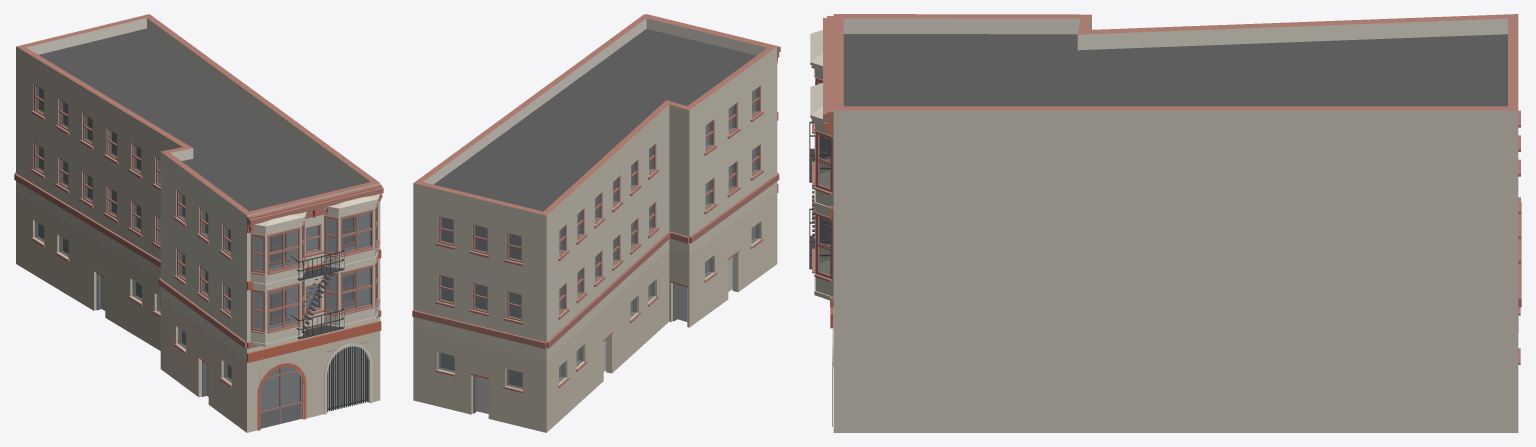
The model's file is exterior.glb.
3 views of the same model, side by side, from view 1: azimuth 30°, elevation 25°; view 2: azimuth 150°, elevation 25°; view 3: azimuth 270°, elevation 25° (orthographic). The views are drawn at different scales.
Visible parts, largest first — view 1: shell, roof, bay-glazing-hyb, shadow-proxy, glazing, bay-windows-hyb, trim, storefront, frames, front-dressing, fire-escape, hyC-arches-3; view 2: shell, roof, glazing, trim, shadow-proxy, frames, storefront; view 3: shell, roof, bay-windows-hyb, bay-glazing-hyb, trim.
Part boxes in pixels (<box>): shell: <box>16,14,380,432</box>; roof: <box>39,28,359,211</box>; bay-glazing-hyb: <box>250,202,380,333</box>; shadow-proxy: <box>38,88,369,410</box>; glazing: <box>35,86,352,411</box>; bay-windows-hyb: <box>250,194,379,347</box>; trim: <box>14,110,383,387</box>; storefront: <box>93,269,367,428</box>; frames: <box>34,84,354,321</box>; front-dressing: <box>247,249,381,362</box>; fire-escape: <box>291,249,344,339</box>; hyC-arches-3: <box>257,341,372,430</box>; shell: <box>413,14,777,432</box>; roof: <box>434,28,756,211</box>; glazing: <box>438,88,759,389</box>; trim: <box>412,14,780,392</box>; shadow-proxy: <box>441,91,755,413</box>; frames: <box>438,86,760,321</box>; storefront: <box>470,251,739,413</box>; shell: <box>833,14,1518,432</box>; roof: <box>843,34,1507,106</box>; bay-windows-hyb: <box>810,30,833,300</box>; bay-glazing-hyb: <box>812,69,832,281</box>; trim: <box>823,16,1521,364</box>.
Bounding box in the file's own units: 7.85 × 12 × 24.02.
